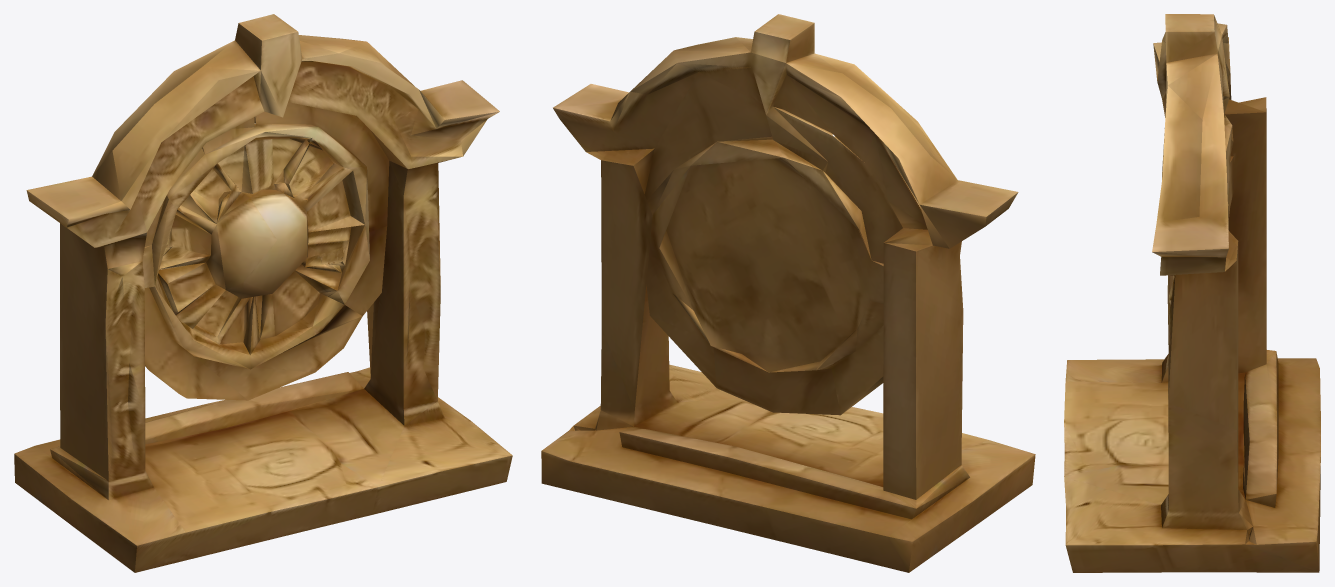
Rendered from m2TempleGong.glb.
The picture shows the model from 3 angles, left to right: view 1: azimuth 30°, elevation 25°; view 2: azimuth 150°, elevation 25°; view 3: azimuth 270°, elevation 25°; orthographic projection.
Visible parts, largest first — view 1: model; view 2: model; view 3: model.
Boxes of the visible parts, x1,y1,x2,y2 form: model: (14, 14, 512, 572); model: (541, 14, 1035, 572); model: (1064, 14, 1320, 572).
Bounding box in the file's own units: 1.9 × 1.89 × 0.9568.
1 material, 1 textured.
